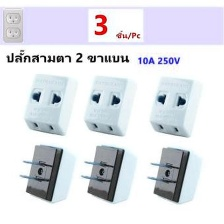three_eye_plug: (78, 139, 139, 205), (144, 72, 203, 140), (15, 141, 78, 203), (139, 146, 204, 206), (80, 72, 138, 136), (21, 71, 79, 135)
